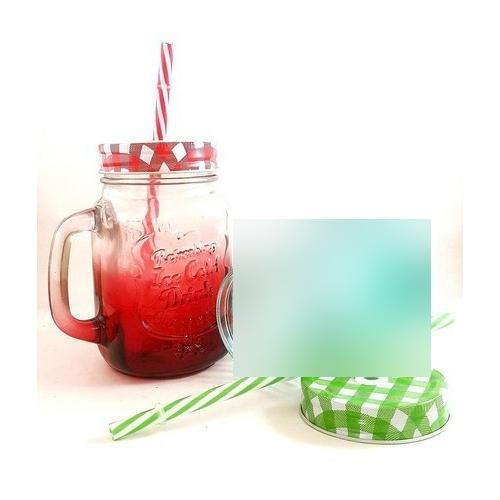glass-mug: (45, 143, 234, 384)
